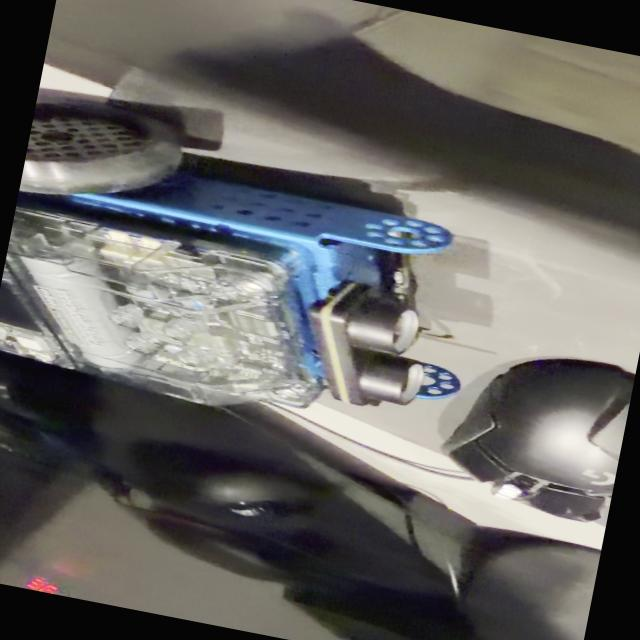mbot-detection: (0, 74, 506, 461)
